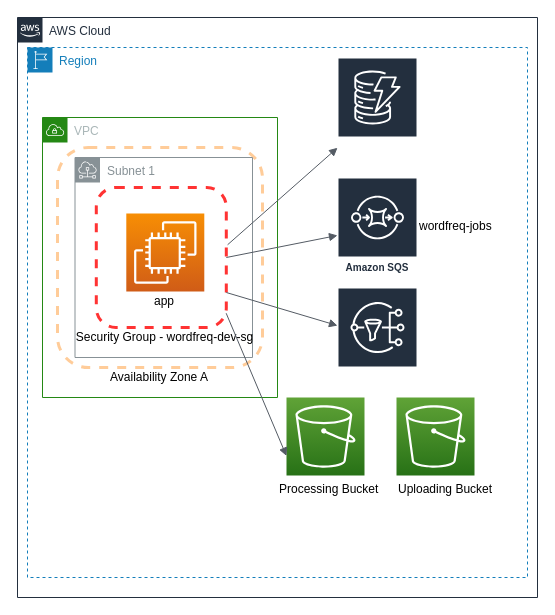
Some shapes in this 555 by 615 pixel diagram are drawn without their labels. The centre of each missing label's shape, as x and y in pixels:
Amazon DynamoDB: point (377, 112)
Amazon SNS: point (377, 337)
wordfreq-dev: point (164, 252)
